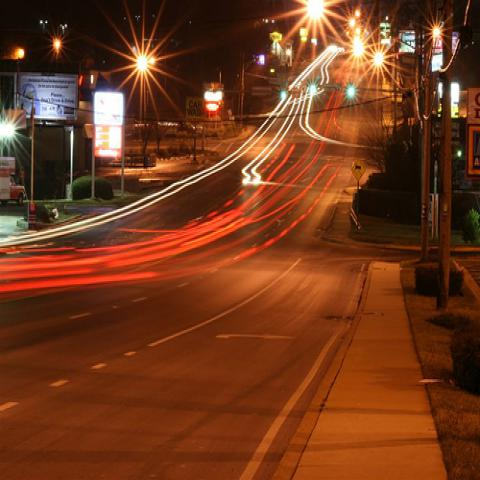truck: (0, 158, 26, 208)
